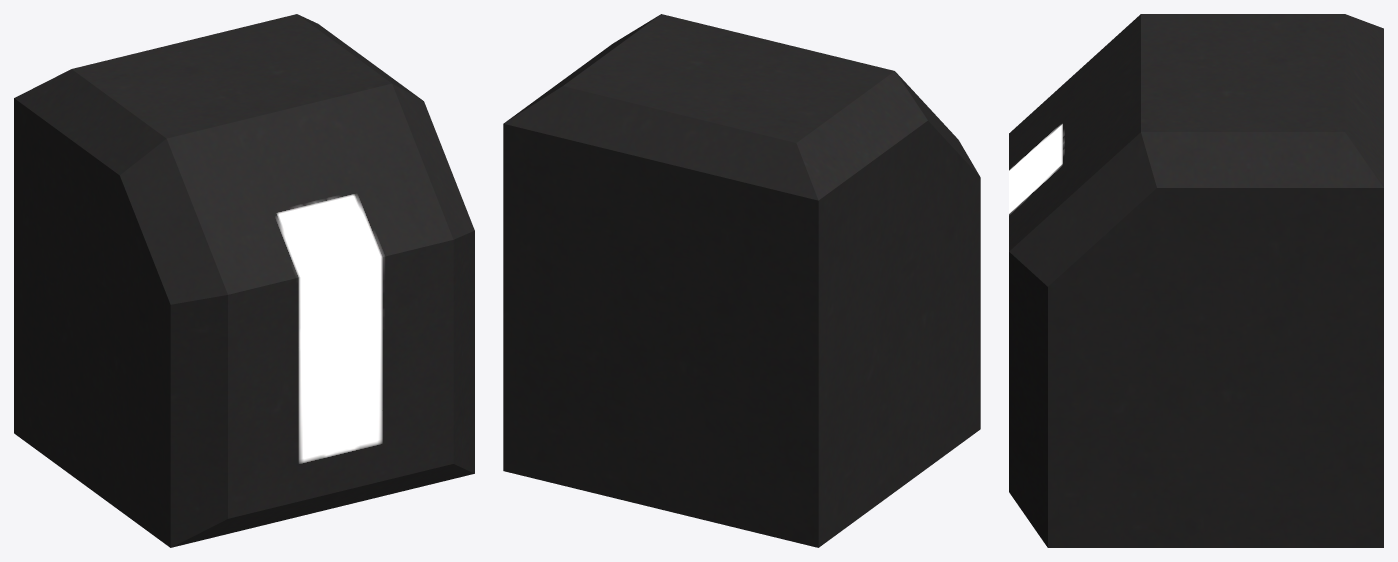
Rendered from side_box_1.fbx.
3 views of the same model, side by side, from view 1: azimuth 30°, elevation 25°; view 2: azimuth 150°, elevation 25°; view 3: azimuth 270°, elevation 25° (orthographic). The views are drawn at different scales.
Visible parts, largest first — view 1: side_box_1; view 2: side_box_1; view 3: side_box_1.
Part boxes in pixels (x1=…): side_box_1: x1=14, y1=14, x2=474, y2=547; side_box_1: x1=503, y1=14, x2=980, y2=547; side_box_1: x1=1009, y1=14, x2=1383, y2=547.
Size of the model in its own units: 3.9 by 4.51 by 3.88.
